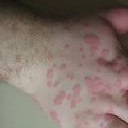Hives: (46, 61, 105, 112), (82, 31, 108, 53)
